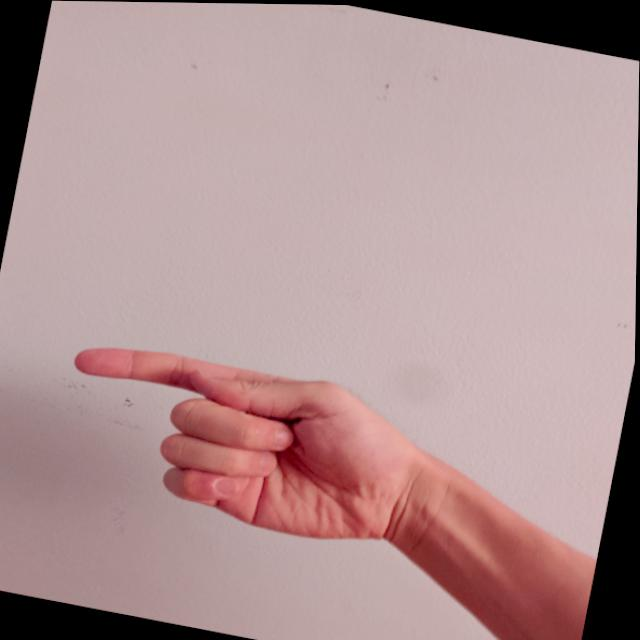G: (42, 326, 428, 560)
